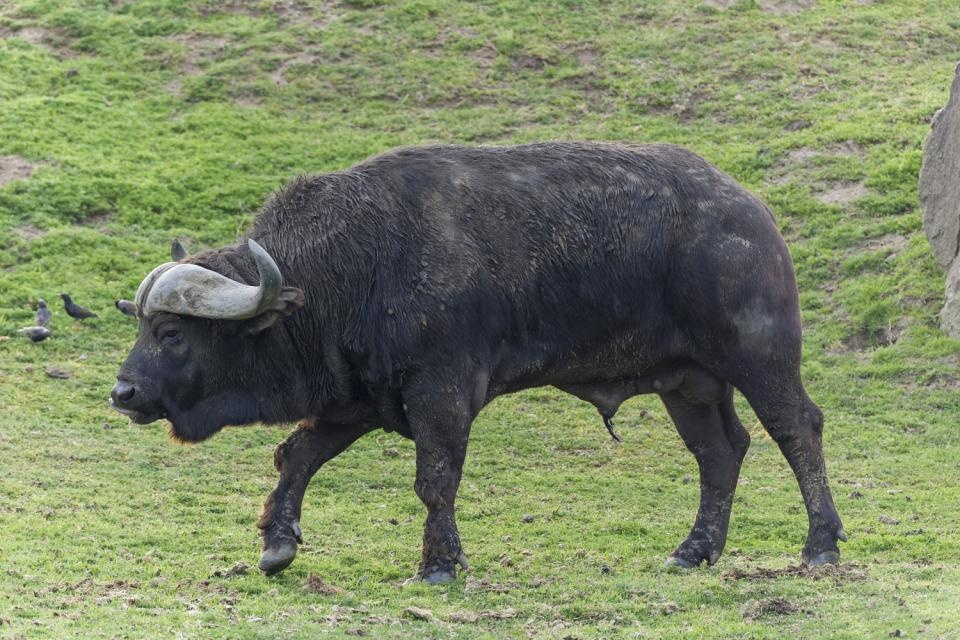buffalo: (108, 137, 844, 582)
